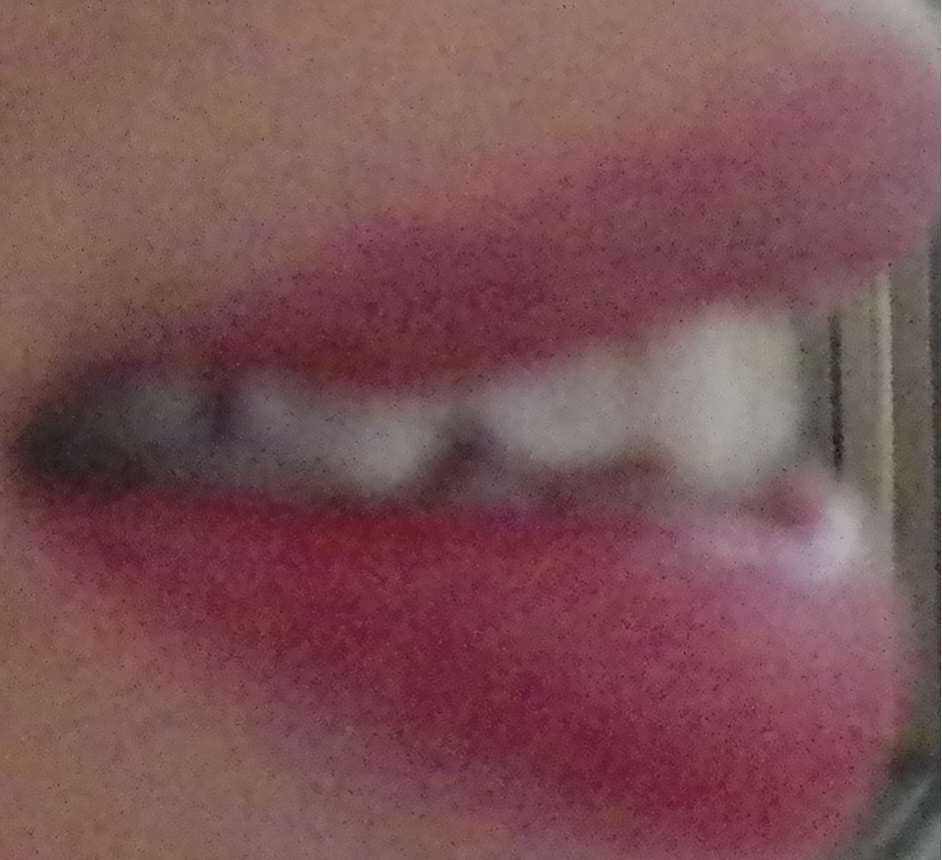boca: (59, 310, 799, 502)
